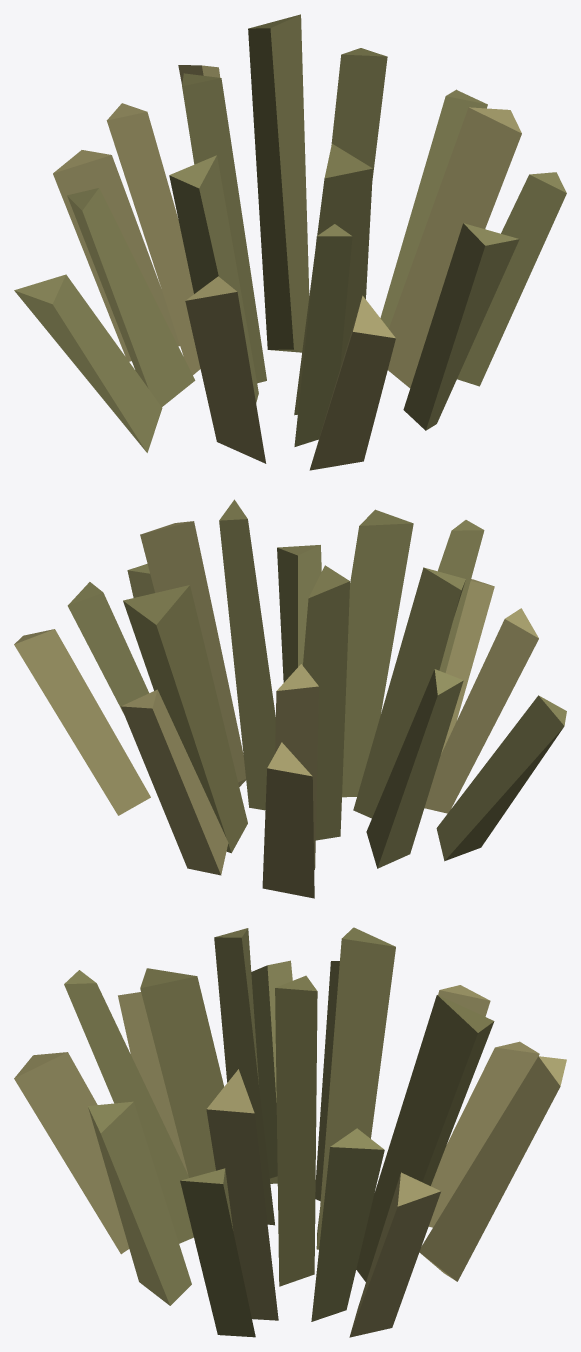
Rendered from desert_scrub.glb.
The picture shows the model from 3 angles, top to bottom: view 1: azimuth 30°, elevation 25°; view 2: azimuth 150°, elevation 25°; view 3: azimuth 270°, elevation 25°; orthographic projection. The views are drawn at different scales.
Parts seen in each view (by area): view 1: desert_scrub; view 2: desert_scrub; view 3: desert_scrub.
Boxes of the visible parts, x1=… form: desert_scrub: x1=14, y1=14, x2=566, y2=470; desert_scrub: x1=14, y1=499, x2=566, y2=898; desert_scrub: x1=14, y1=927, x2=566, y2=1337.
Size of the model in its own units: 1.97 by 1.17 by 1.81.
